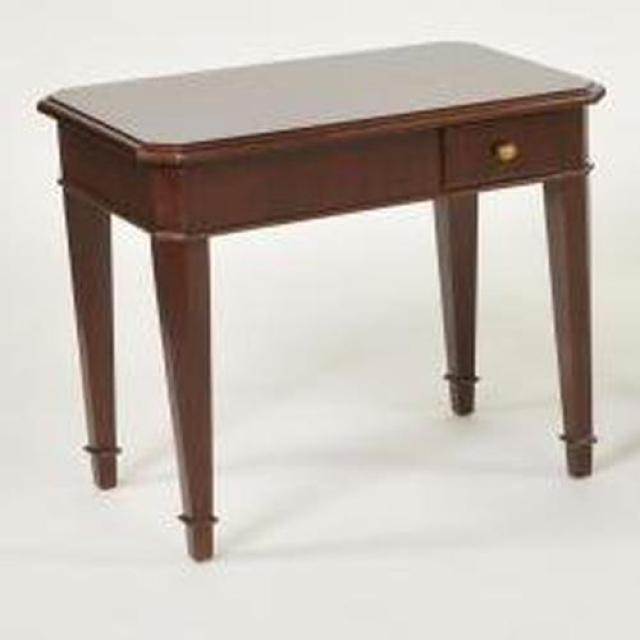table: (37, 41, 607, 562)
